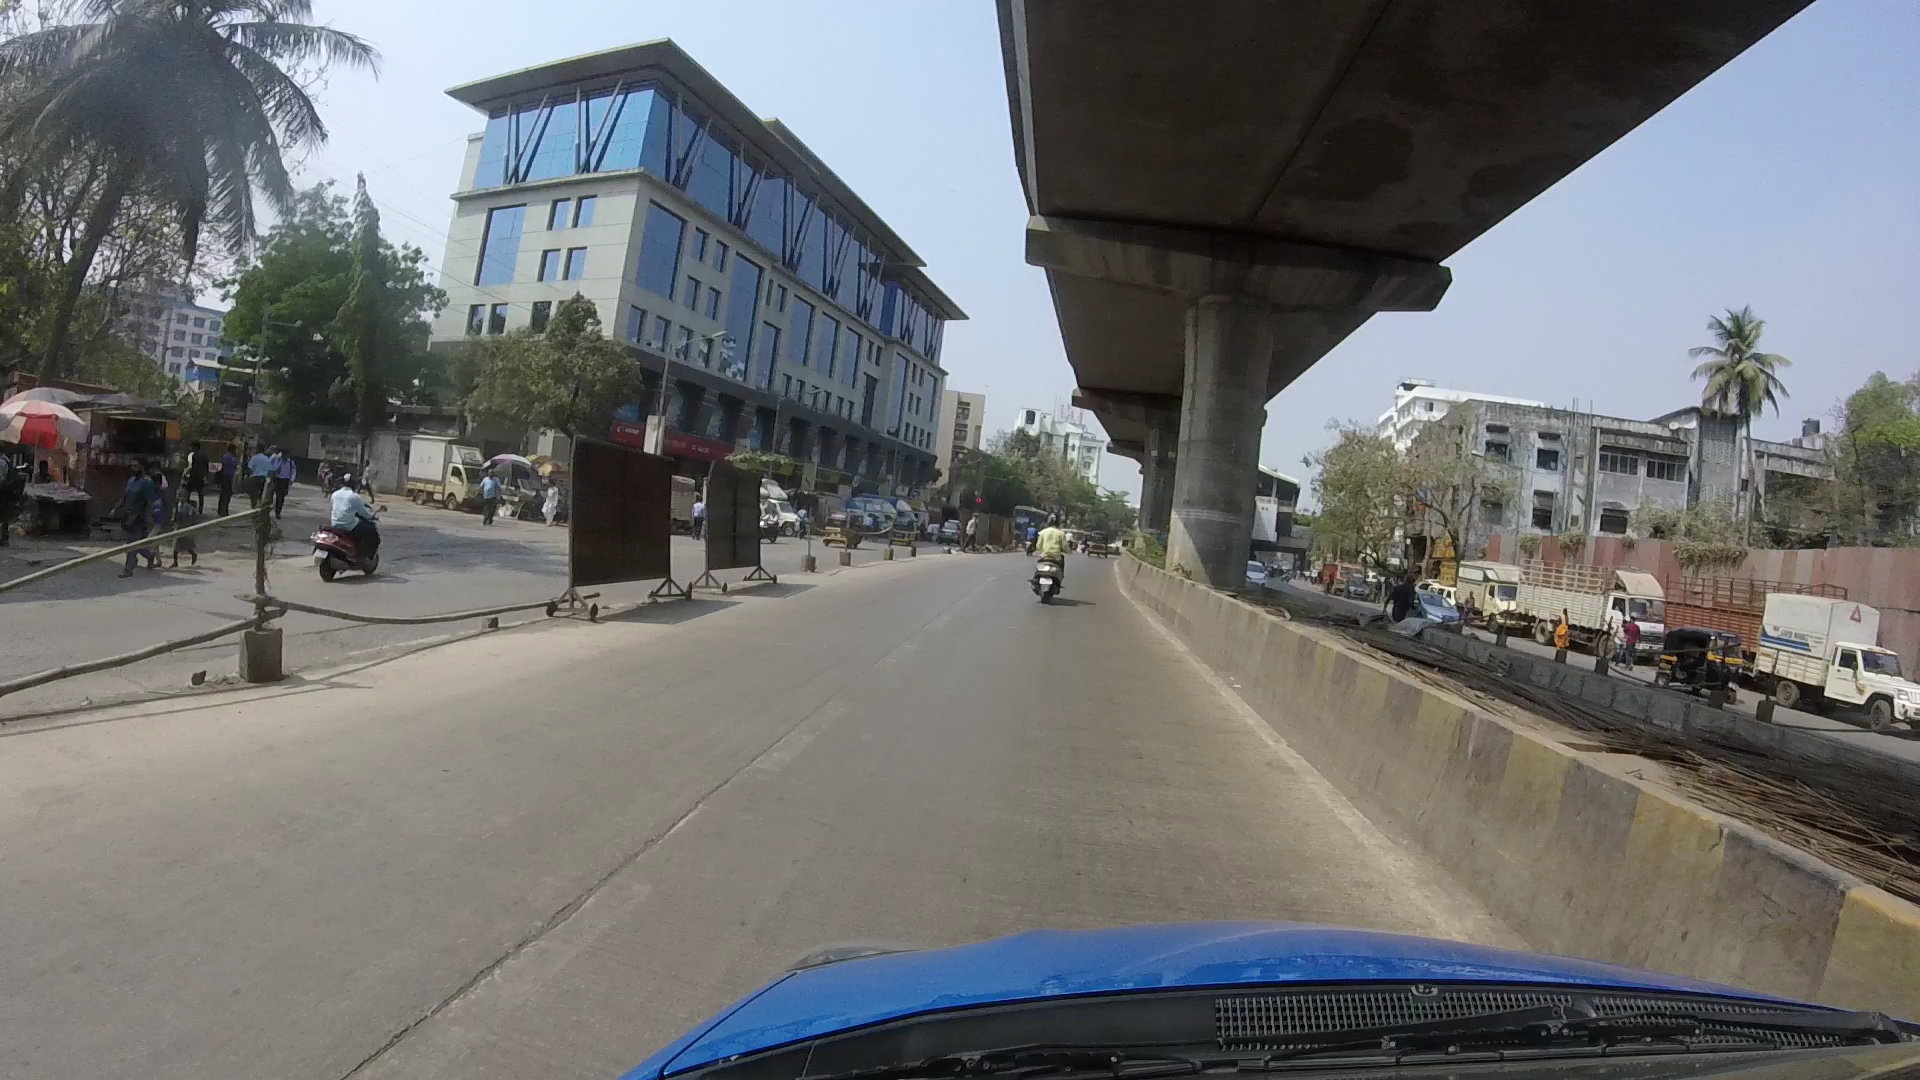bike/scooter: (297, 455, 418, 592), (1006, 498, 1084, 616)
rickshaw: (1656, 616, 1755, 707)
truck: (1760, 585, 1919, 725), (1643, 562, 1840, 666), (1509, 549, 1671, 659)
